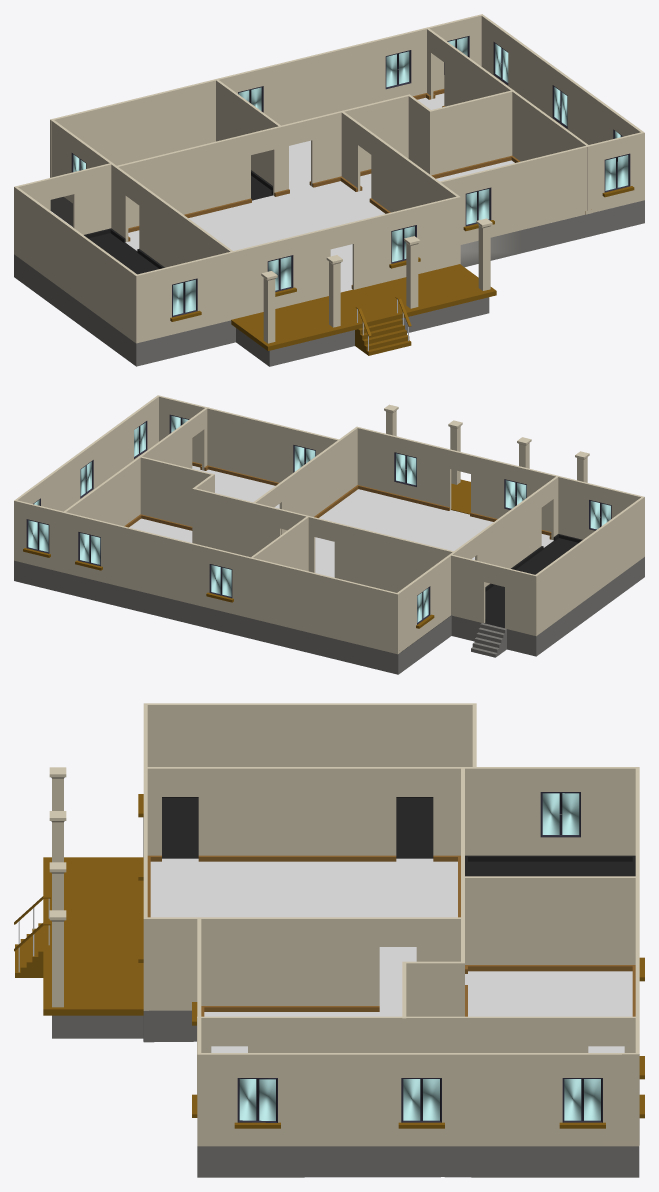
The model's file is Maison_Base_gamejam.fbx.
3 renders of one model, top to bottom at view 1: azimuth 30°, elevation 25°; view 2: azimuth 150°, elevation 25°; view 3: azimuth 270°, elevation 25°, orthographic. The views are drawn at different scales.
Visible parts, largest first — view 1: Base_house; view 2: Base_house; view 3: Base_house.
Boxes of the visible parts, <box> form: Base_house: <box>14,14,644,366</box>; Base_house: <box>14,395,644,674</box>; Base_house: <box>14,703,644,1177</box>.
Size of the model in its own units: 2488 by 405 by 1876.
